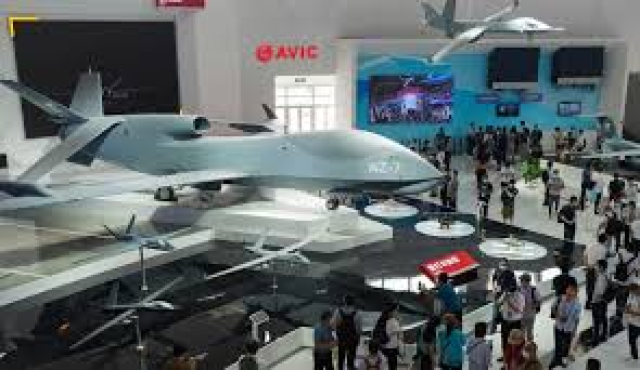military drone: (0, 66, 446, 202)
